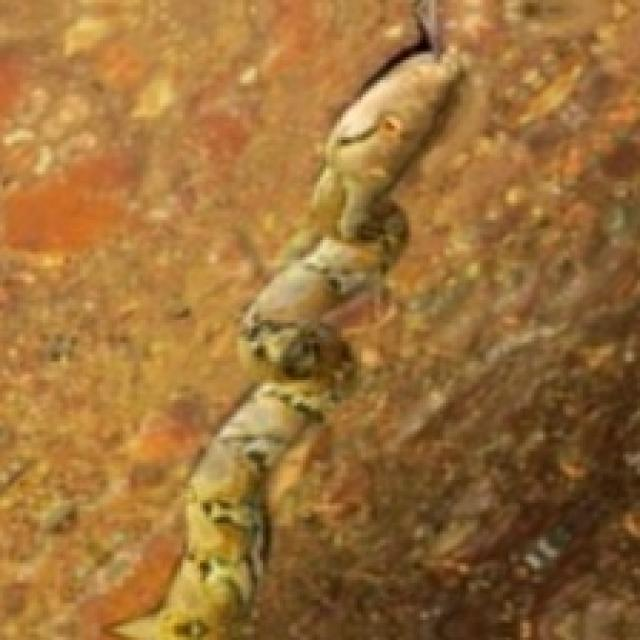reticulated python: (114, 23, 483, 637)
